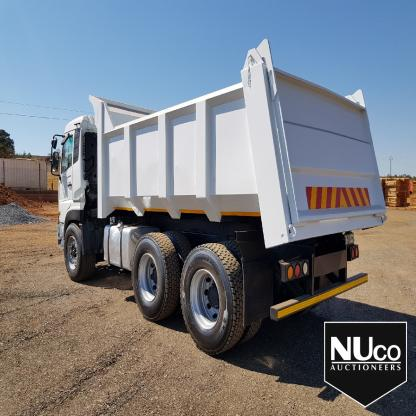dump_truck: (47, 37, 390, 354)
